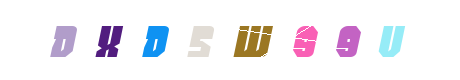5: (163, 0, 243, 80)
9: (212, 0, 292, 80), (287, 0, 367, 80)
D: (44, 0, 124, 80), (115, 0, 195, 80)
V: (336, 0, 416, 80)
W: (190, 0, 270, 80)
X: (69, 0, 149, 80)
